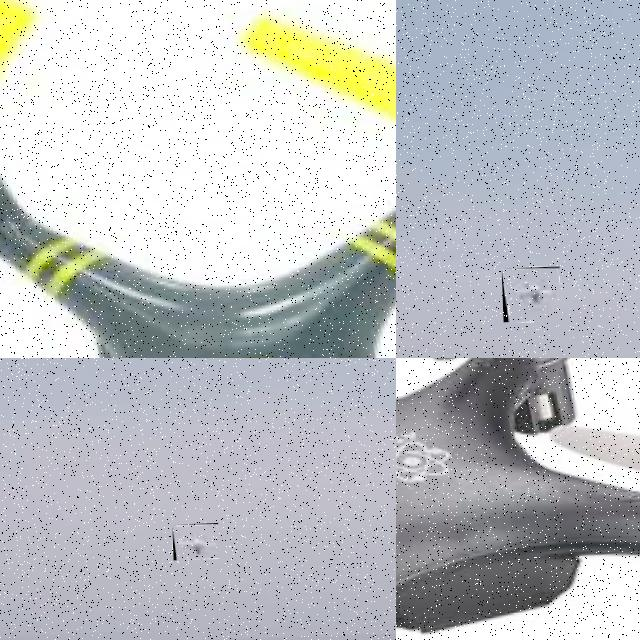drone: (0, 0, 396, 358), (396, 358, 640, 640), (502, 266, 560, 322), (172, 522, 220, 560)
